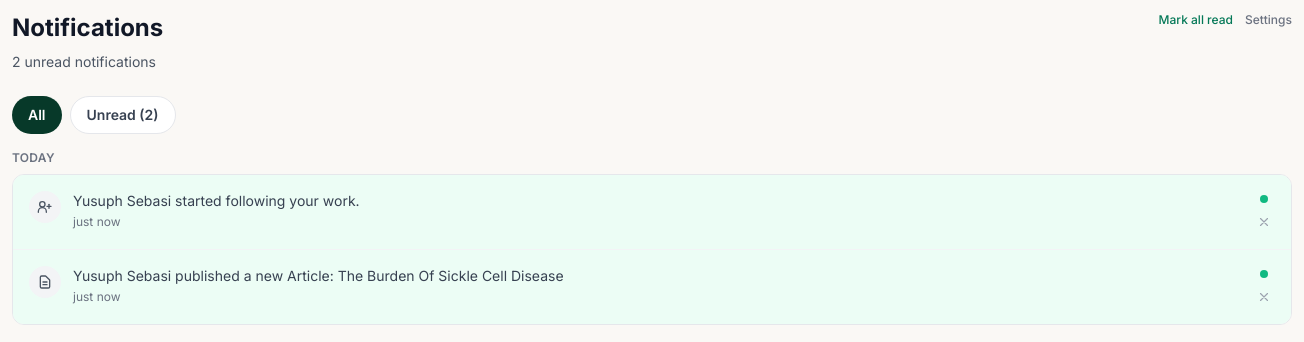
Scenario: marking a single notification read › persists the read and updates the unread count
Expected: the text "2 unread notifications" is shown, [12,52,163,72]
Click the link "published a new Article" at (296, 285), box [29,266,564,304]
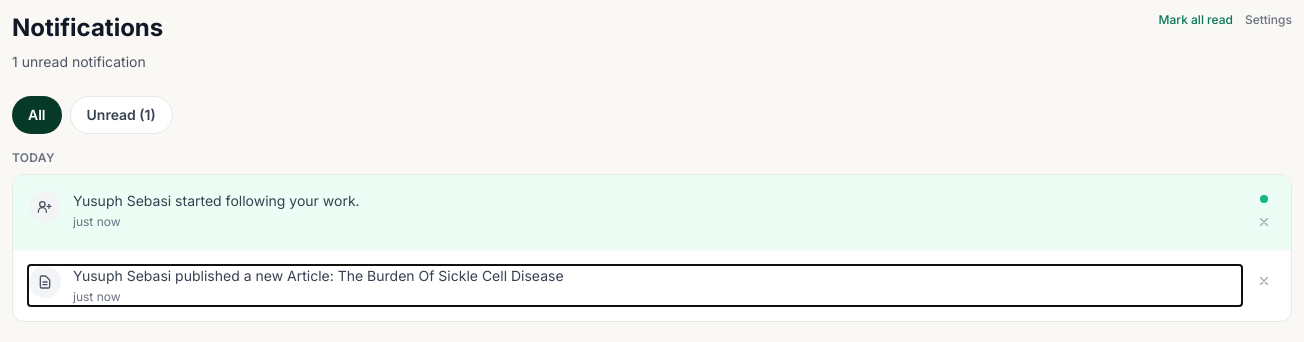
Result: the text "1 unread notification" is shown at [12,52,163,72]
